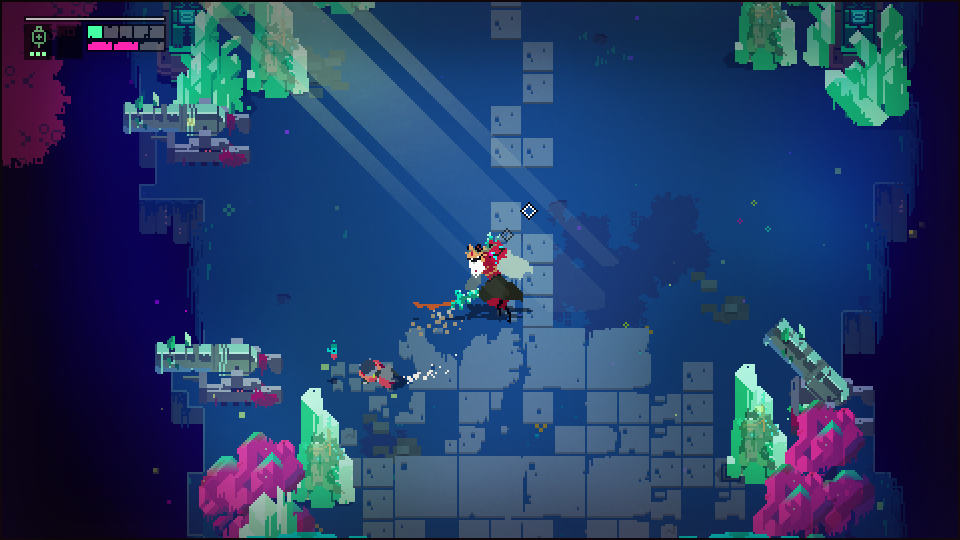hanged_man: (447, 232, 529, 325)
player: (352, 360, 412, 399)
